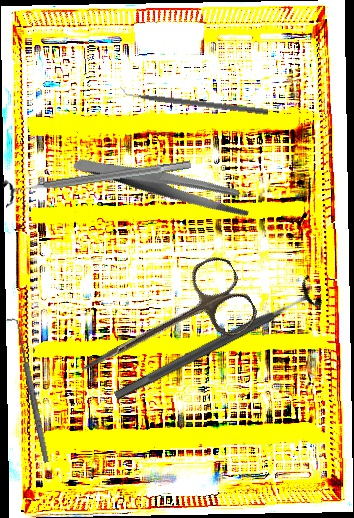Chopper: (118, 82, 270, 116)
Dressing Forceps: (71, 114, 257, 254)
Fixation Ring: (107, 273, 324, 412), (1, 150, 194, 209)
Hook Surgical: (6, 316, 52, 465)
Iris Scissors: (64, 250, 263, 408)
